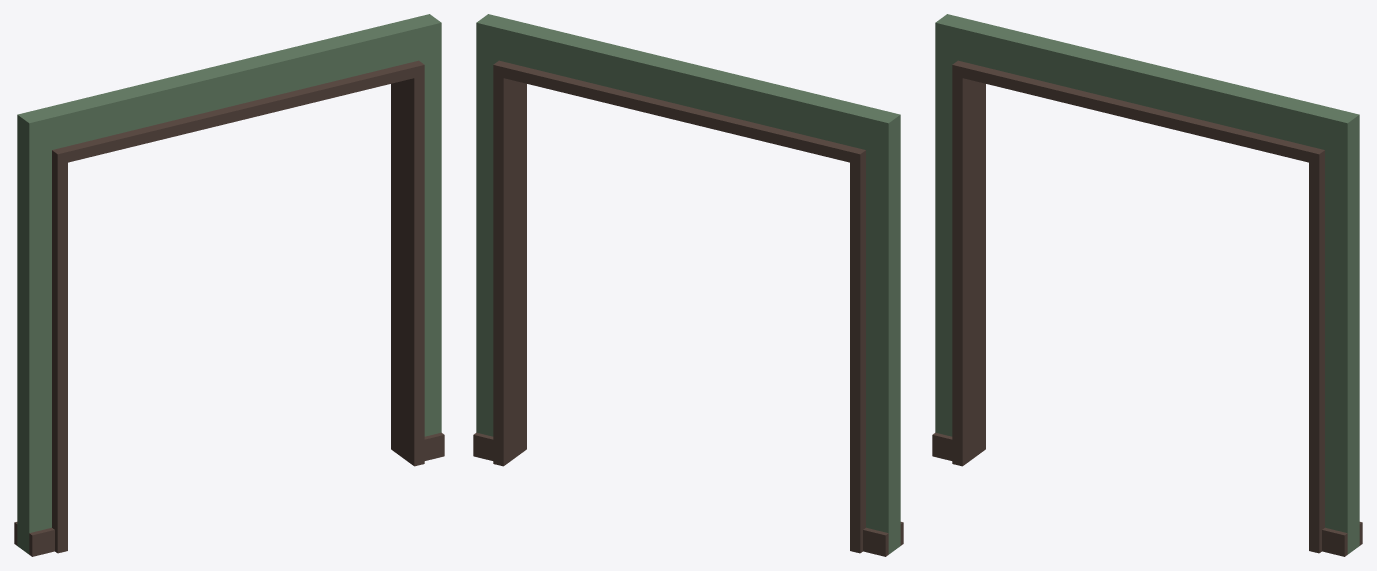
Rendered from h_wall_1_doorFrame2_4.fbx.
3 views of the same model, side by side, from view 1: azimuth 30°, elevation 25°; view 2: azimuth 150°, elevation 25°; view 3: azimuth 330°, elevation 25° (orthographic).
Visible parts, largest first — view 1: Cube, DoorFrame; view 2: Cube, DoorFrame; view 3: Cube, DoorFrame.
Boxes of the visible parts, x1=… form: Cube: x1=14, y1=14, x2=444, y2=556; DoorFrame: x1=52, y1=60, x2=424, y2=553; Cube: x1=473, y1=14, x2=903, y2=556; DoorFrame: x1=493, y1=60, x2=865, y2=553; Cube: x1=932, y1=14, x2=1362, y2=556; DoorFrame: x1=952, y1=60, x2=1324, y2=553.
Bounding box in the file's own units: 400 × 400 × 39.37.
